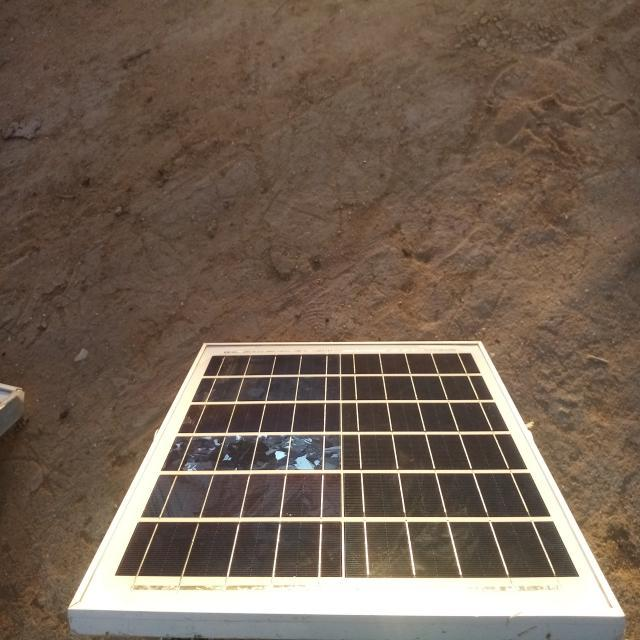no faulty: (75, 345, 622, 617)
